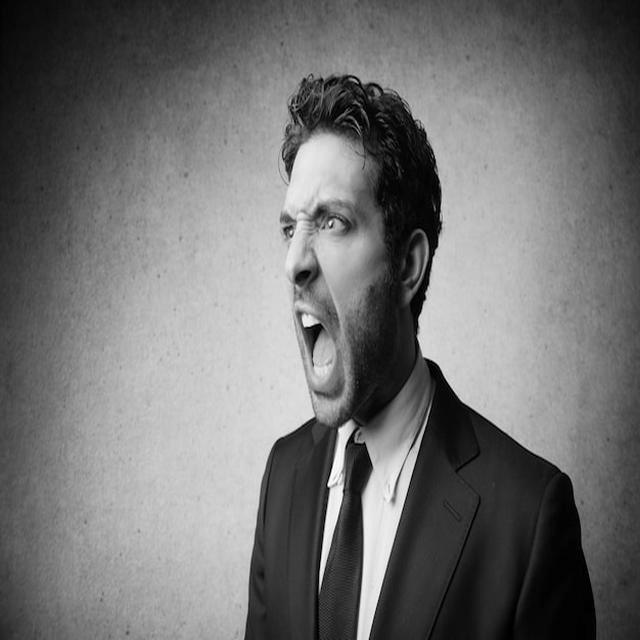Angry: (279, 136, 405, 428)
